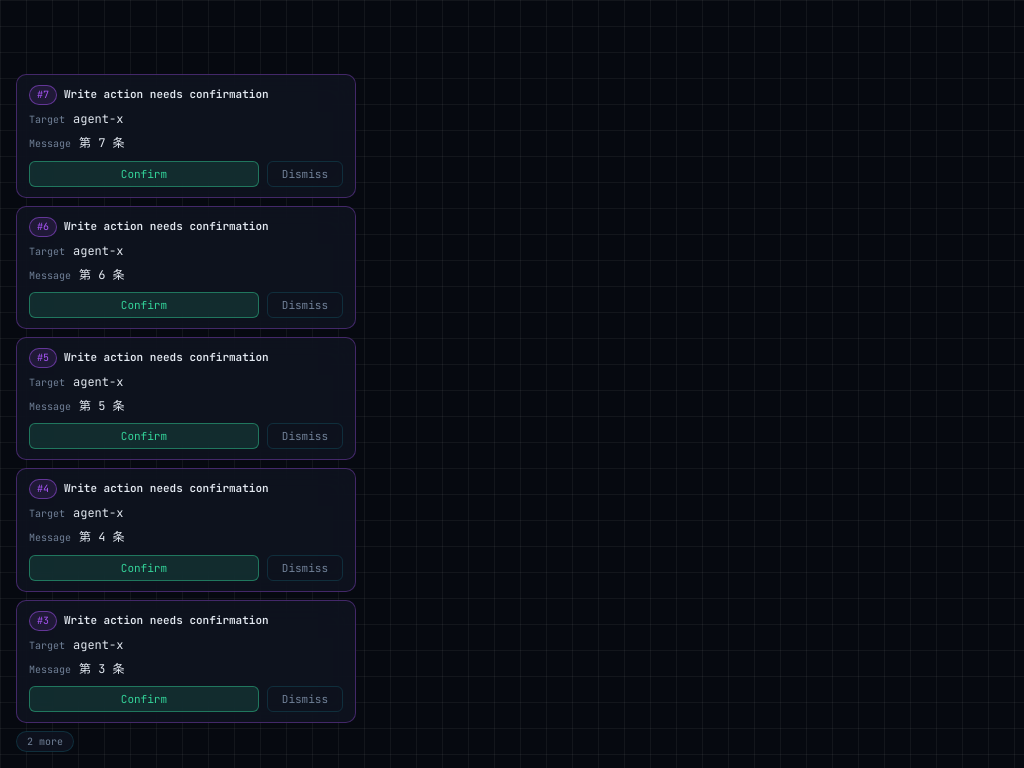
Test: ConfirmStack（B1 左下角全局确认卡栈） › 超 5 张折叠「还有 N 张」；点击展开全部
The width and height of the screenshot is (1024, 768).
Expected: the number of elements with test id "steward-confirm-card" is 5, [16, 74, 356, 198]; [16, 206, 356, 329]; [16, 337, 356, 460]; [16, 468, 356, 592]; [16, 600, 356, 723]
Click the button with test id "steward-card-more": (45, 742) [16, 731, 74, 752]
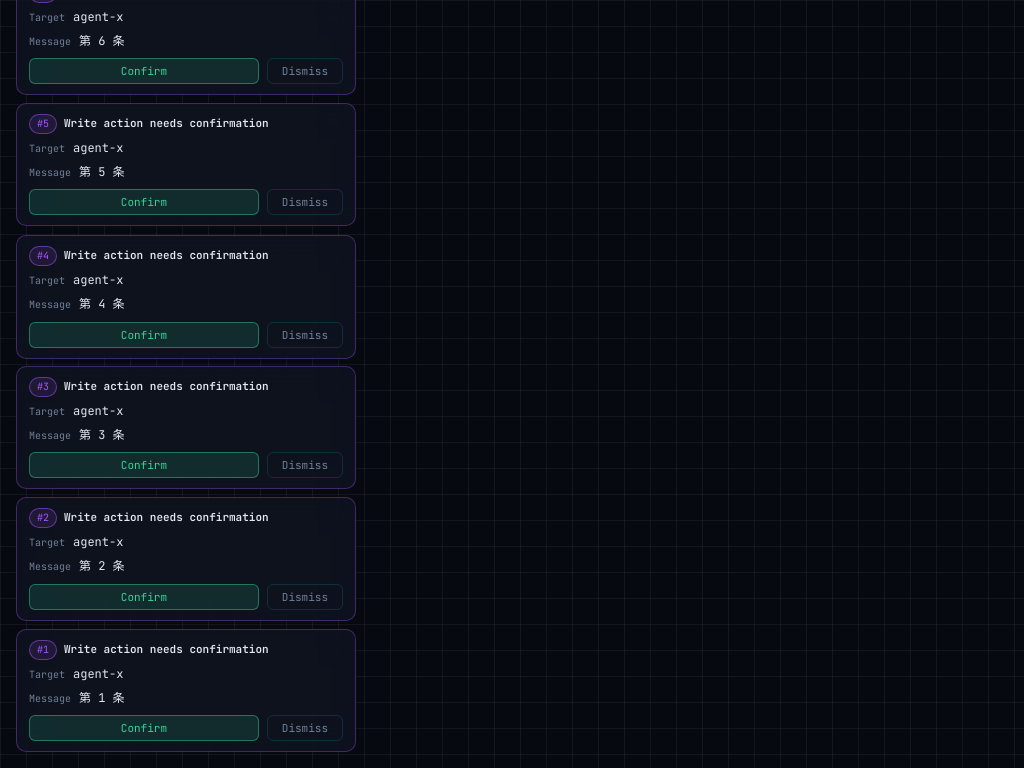
Expected: the number of elements with test id "steward-confirm-card" is 7
